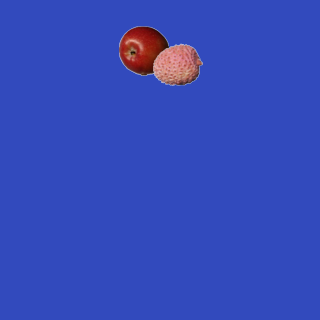Apple Braeburn: (118, 25, 168, 75)
Lychee: (152, 39, 202, 89)
